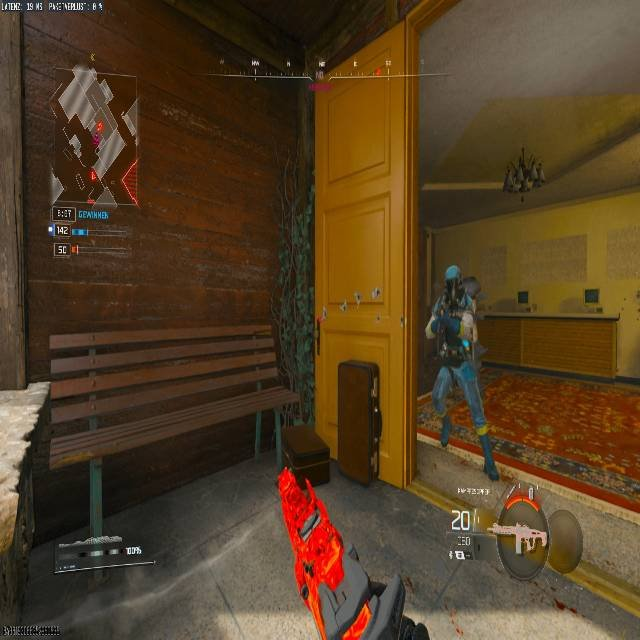head: (444, 265, 462, 293)
player: (423, 267, 499, 478), (432, 272, 479, 352)
